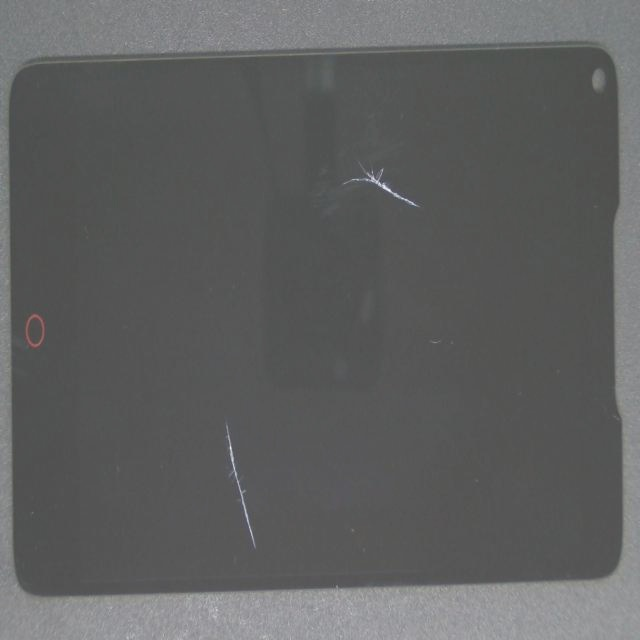scratch: (150, 319, 374, 640), (214, 57, 553, 231)
